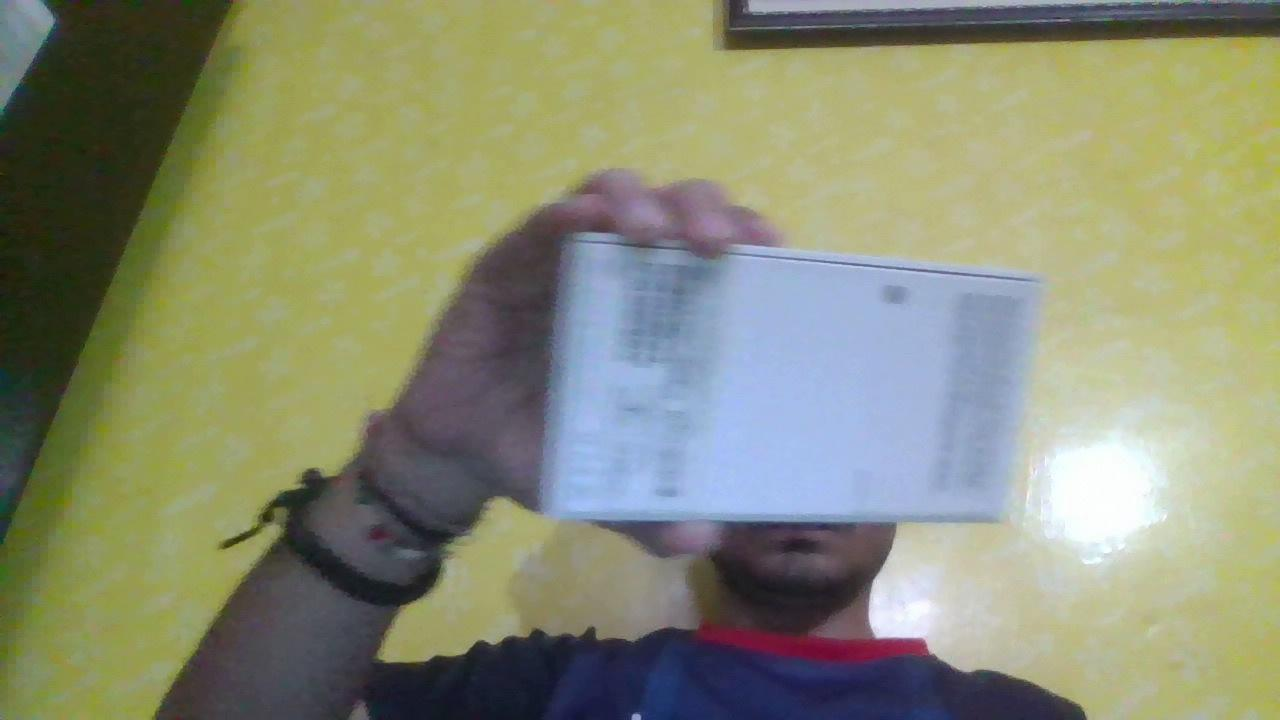Phone: (534, 225, 1043, 535)
